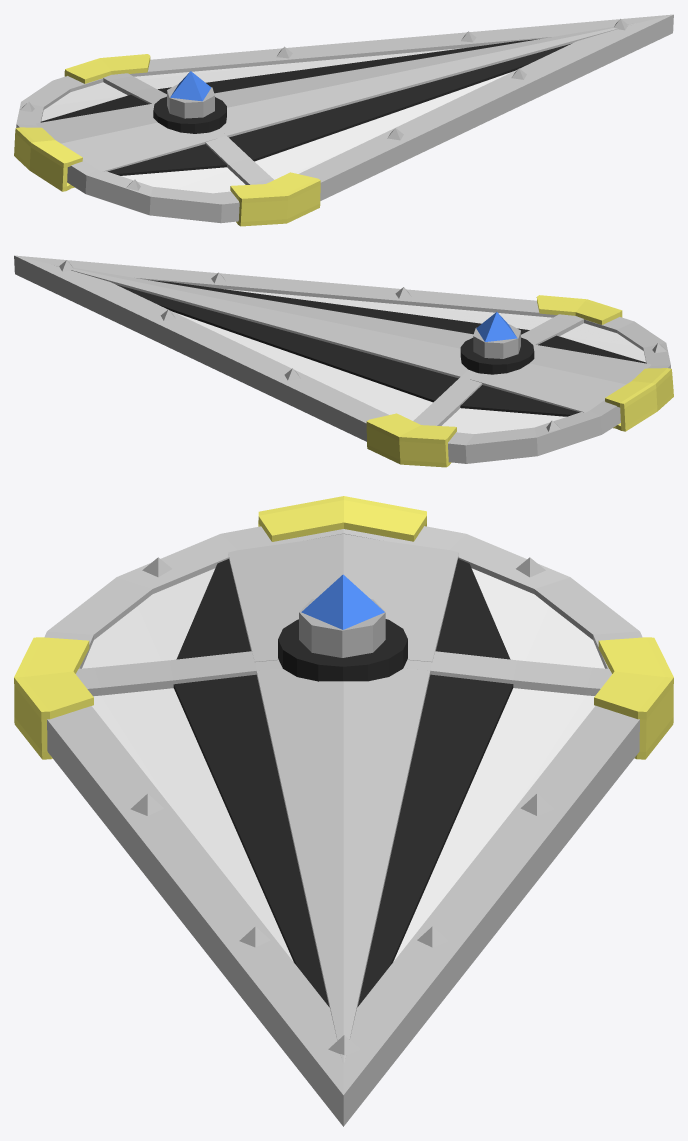
The model's file is Shield_3_d_w.fbx.
3 views of the same model, one above another, from view 1: azimuth 30°, elevation 25°; view 2: azimuth 150°, elevation 25°; view 3: azimuth 270°, elevation 25° (orthographic). The views are drawn at different scales.
Visible parts, largest first — view 1: Circle.380, Circle.384, Circle.376, Circle.379, Circle.374, Circle.375, Circle.383, Circle.373, Circle.381, Circle.382, Cone.459; view 2: Circle.380, Circle.384, Circle.376, Circle.379, Circle.373, Circle.375, Circle.383, Circle.374, Circle.381, Circle.382, Cone.459; view 3: Circle.380, Circle.384, Circle.376, Circle.379, Circle.383, Circle.373, Circle.374, Circle.375, Circle.381, Circle.382, Cone.459.
Boxes of the visible parts, x1,y1,x2,y2 form: Circle.380: (16,14,673,223); Circle.384: (36,23,636,171); Circle.376: (40,39,571,175); Circle.379: (41,48,513,193); Circle.374: (230,172,320,226); Circle.375: (14,127,82,191); Circle.383: (103,73,273,184); Circle.373: (64,54,150,83); Circle.381: (153,96,226,133); Circle.382: (167,83,214,118); Cone.459: (170,71,211,101); Circle.380: (14,255,670,463); Circle.384: (51,264,650,412); Circle.376: (116,280,646,416); Circle.379: (174,289,645,433); Circle.373: (366,413,456,467); Circle.375: (605,368,673,431); Circle.383: (413,314,583,425); Circle.374: (536,295,622,324); Circle.381: (460,337,534,374); Circle.382: (473,324,520,358); Cone.459: (476,312,517,341); Circle.380: (44,526,642,1126); Circle.384: (228,534,458,1063); Circle.376: (173,559,513,1006); Circle.379: (82,568,604,961); Circle.383: (76,651,611,696); Circle.373: (594,637,673,759); Circle.374: (14,637,93,759); Circle.375: (258,496,426,541); Circle.381: (278,619,407,681); Circle.382: (299,598,385,657); Cone.459: (301,574,384,629).
Bounding box in the file's own units: 150 × 24.67 × 76.07.
